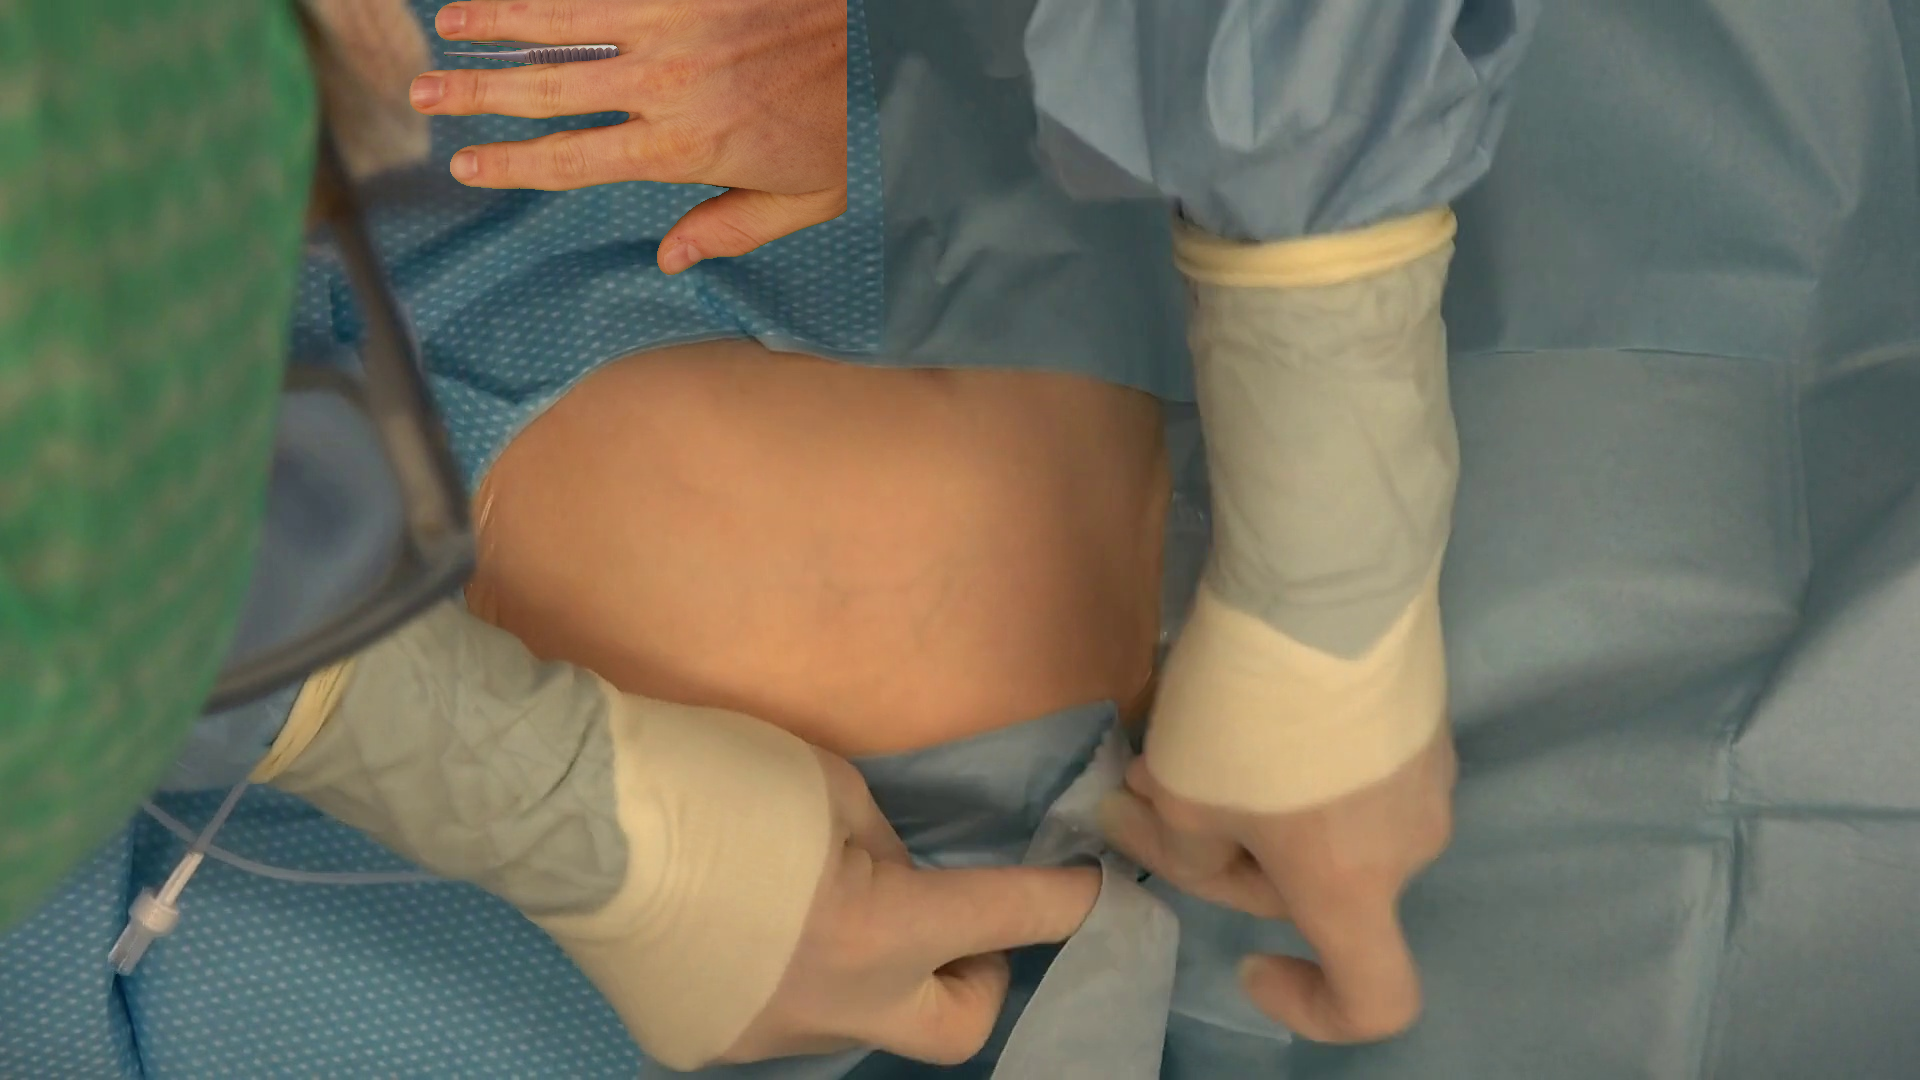forceps: (444, 41, 618, 65)
